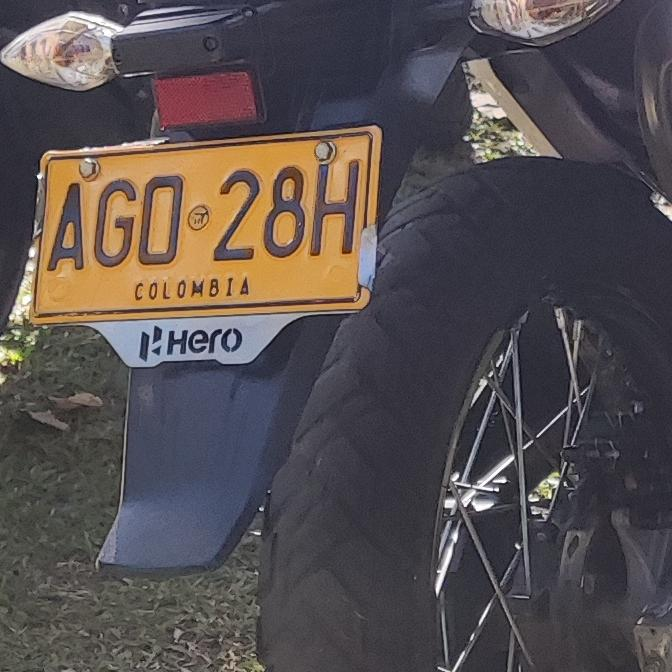plates: (23, 127, 380, 332)
